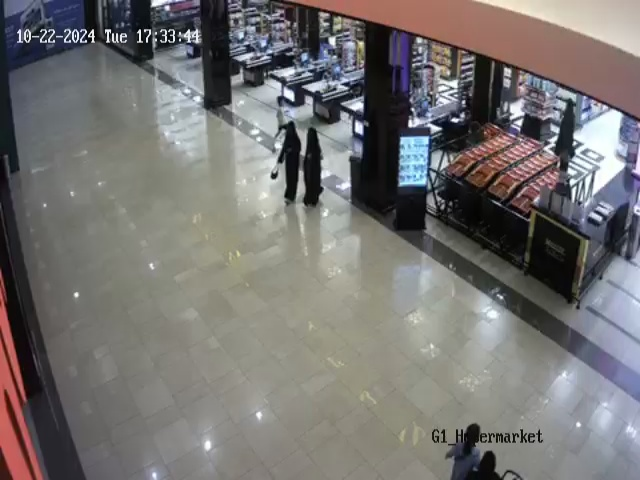female: (275, 120, 302, 204), (447, 412, 480, 478), (302, 126, 324, 207), (556, 96, 581, 159), (478, 446, 507, 478)
